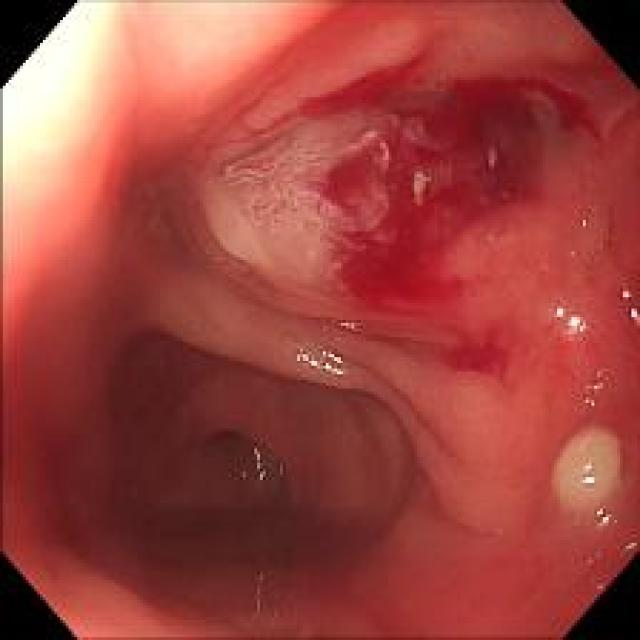blood: (299, 80, 552, 349)
contrast: (68, 320, 421, 600)
saturation: (4, 1, 126, 204)
specularity: (288, 336, 351, 388), (235, 435, 274, 491), (548, 292, 588, 346), (612, 272, 638, 340), (574, 452, 601, 504), (328, 309, 361, 339), (591, 508, 618, 535)
